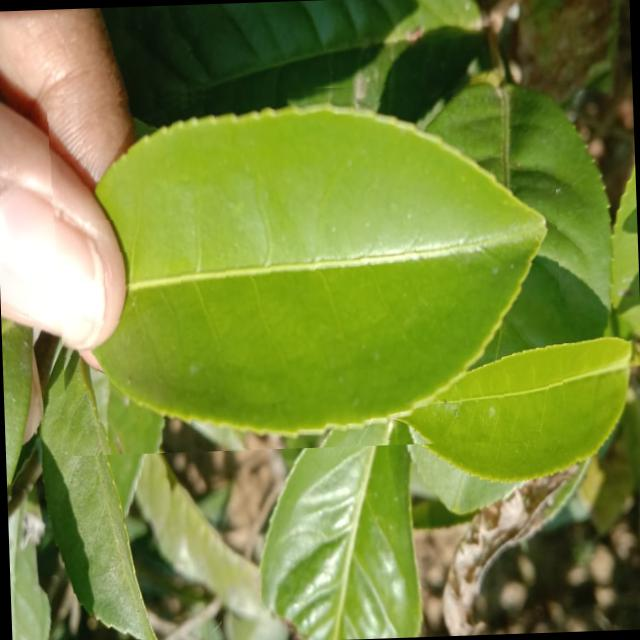Category B 2-4 days: (45, 75, 563, 456)
